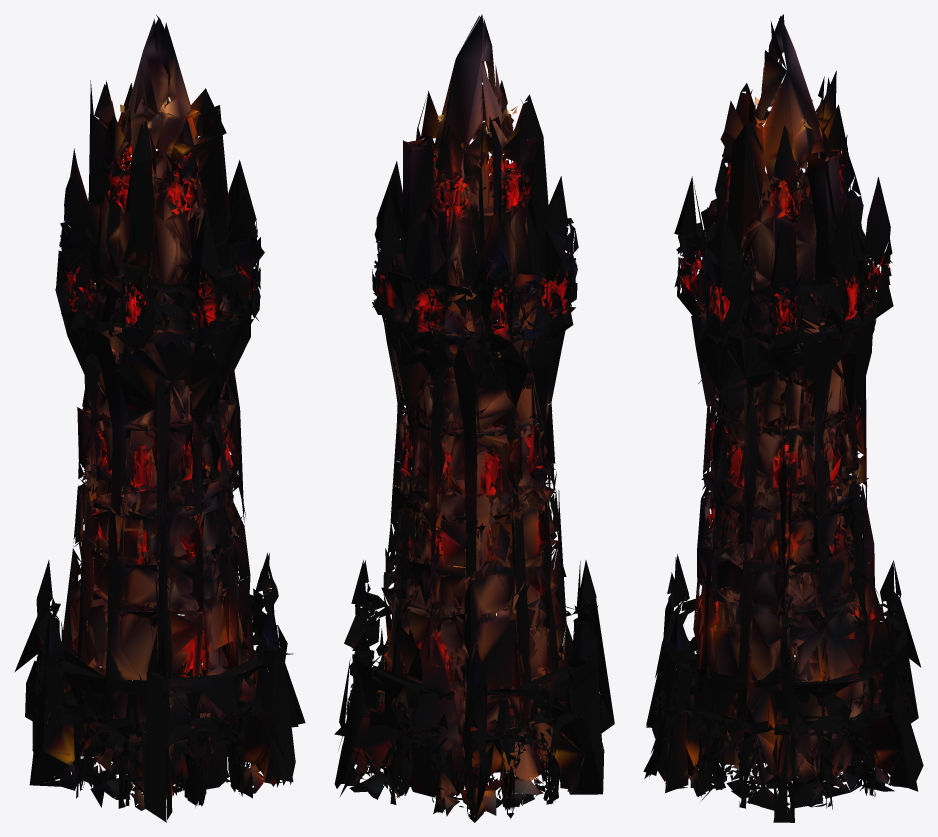
The model's file is citadel_tower.glb.
3 views of the same model, side by side, from view 1: azimuth 30°, elevation 25°; view 2: azimuth 150°, elevation 25°; view 3: azimuth 270°, elevation 25° (orthographic).
Parts seen in each view (by area): view 1: citadel_tower_body; view 2: citadel_tower_body; view 3: citadel_tower_body.
Part boxes in pixels (x1,y1,x2,y2): citadel_tower_body: (14, 14, 305, 822); citadel_tower_body: (334, 14, 614, 822); citadel_tower_body: (643, 14, 923, 822).
Bounding box in the file's own units: 22.61 × 60.34 × 20.46.
1 material, 1 textured.
